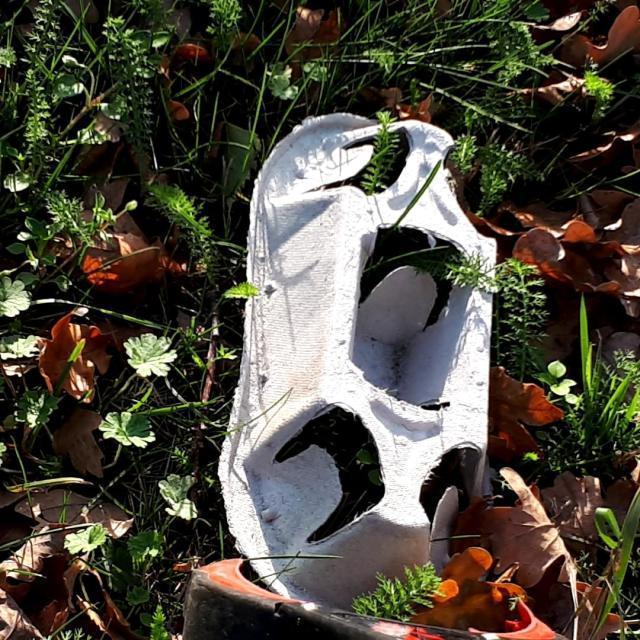Paper: (210, 99, 500, 623)
